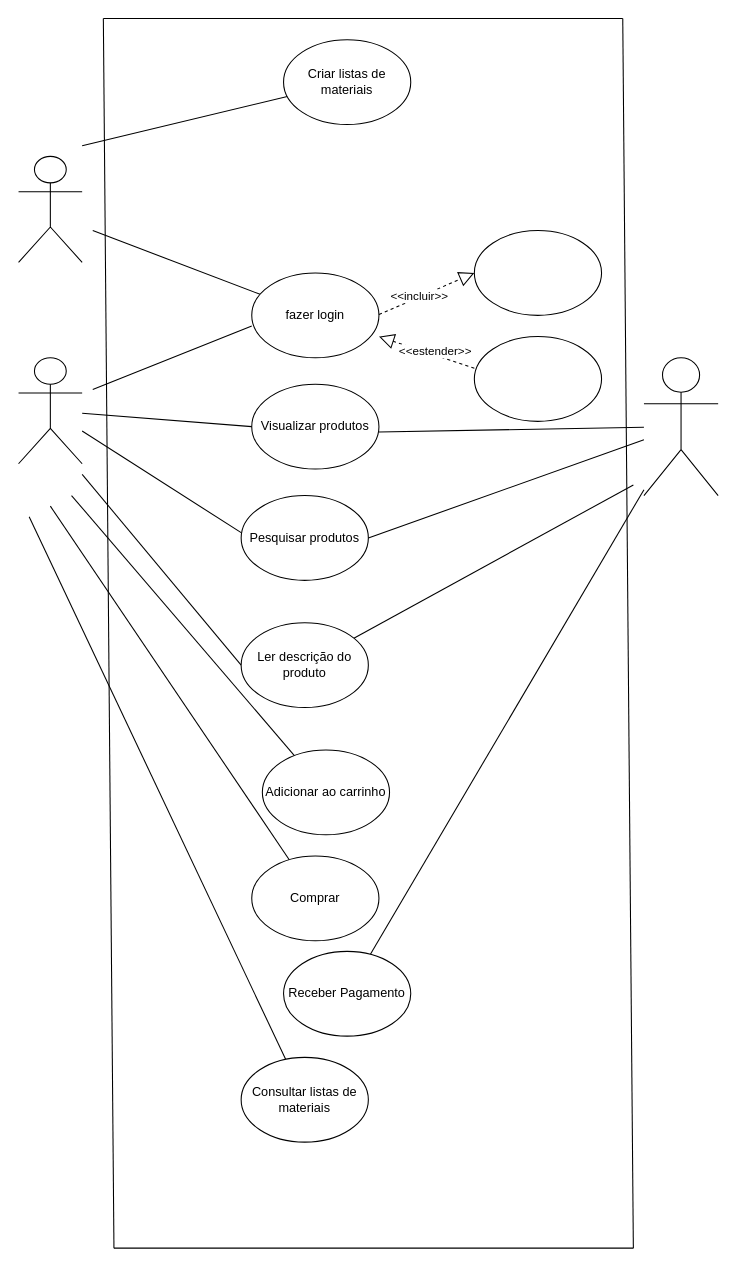
The diagram is 737 pixels wide and 1268 high, and some of its shapes have lost their labels. Each missing label, with the box of its shape:
Aluno: (17, 357, 82, 464)
Professor: (17, 155, 82, 262)
senha inválida: (473, 335, 602, 421)
Vendedor: (643, 357, 718, 496)
verificar senha: (473, 229, 602, 315)
